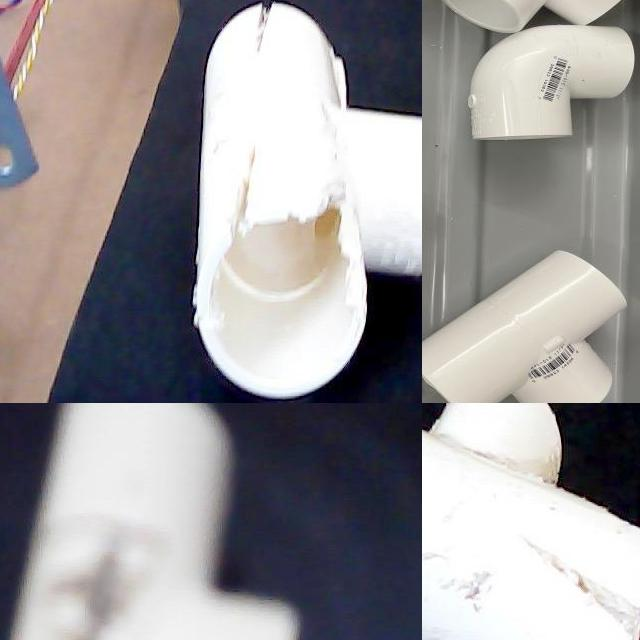Defective: (482, 508, 640, 638), (27, 513, 173, 640), (295, 168, 368, 344), (311, 35, 354, 146), (236, 122, 261, 270), (251, 1, 278, 64)
L Joint: (467, 27, 635, 143), (441, 0, 622, 35)
T Joint: (192, 0, 422, 403), (5, 403, 293, 640), (422, 403, 640, 640), (422, 250, 628, 403)
